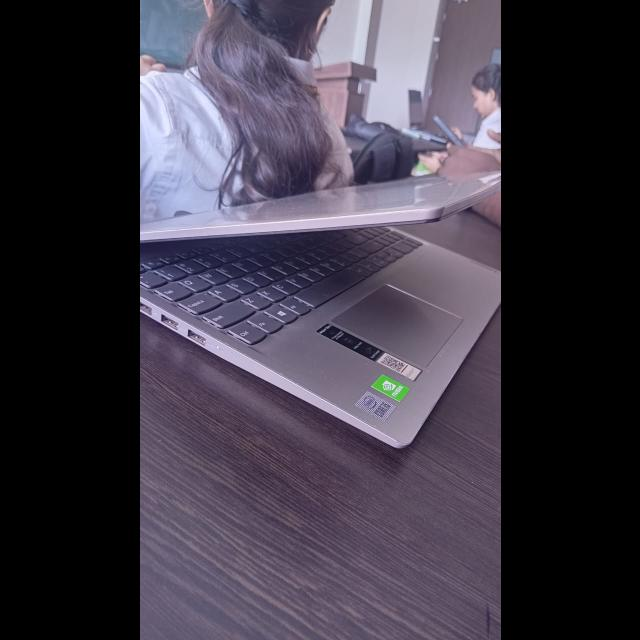laptop: (142, 160, 500, 480)
